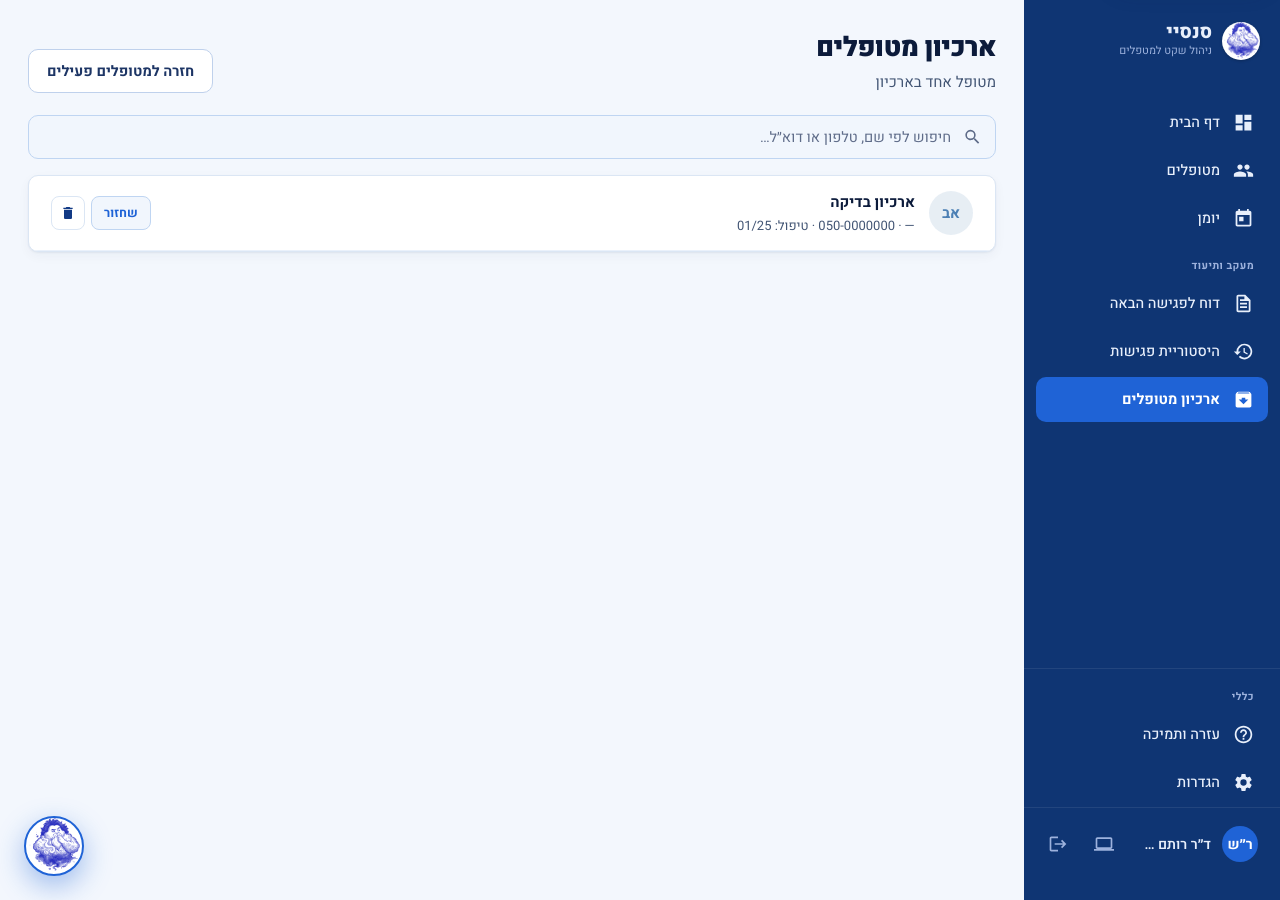
Test case: patient archive page › shows archived patients and restores them to the active list
The image size is (1280, 900).
Click the button with aria-label "שחזור מטופל": (121, 213) [91, 196, 151, 230]
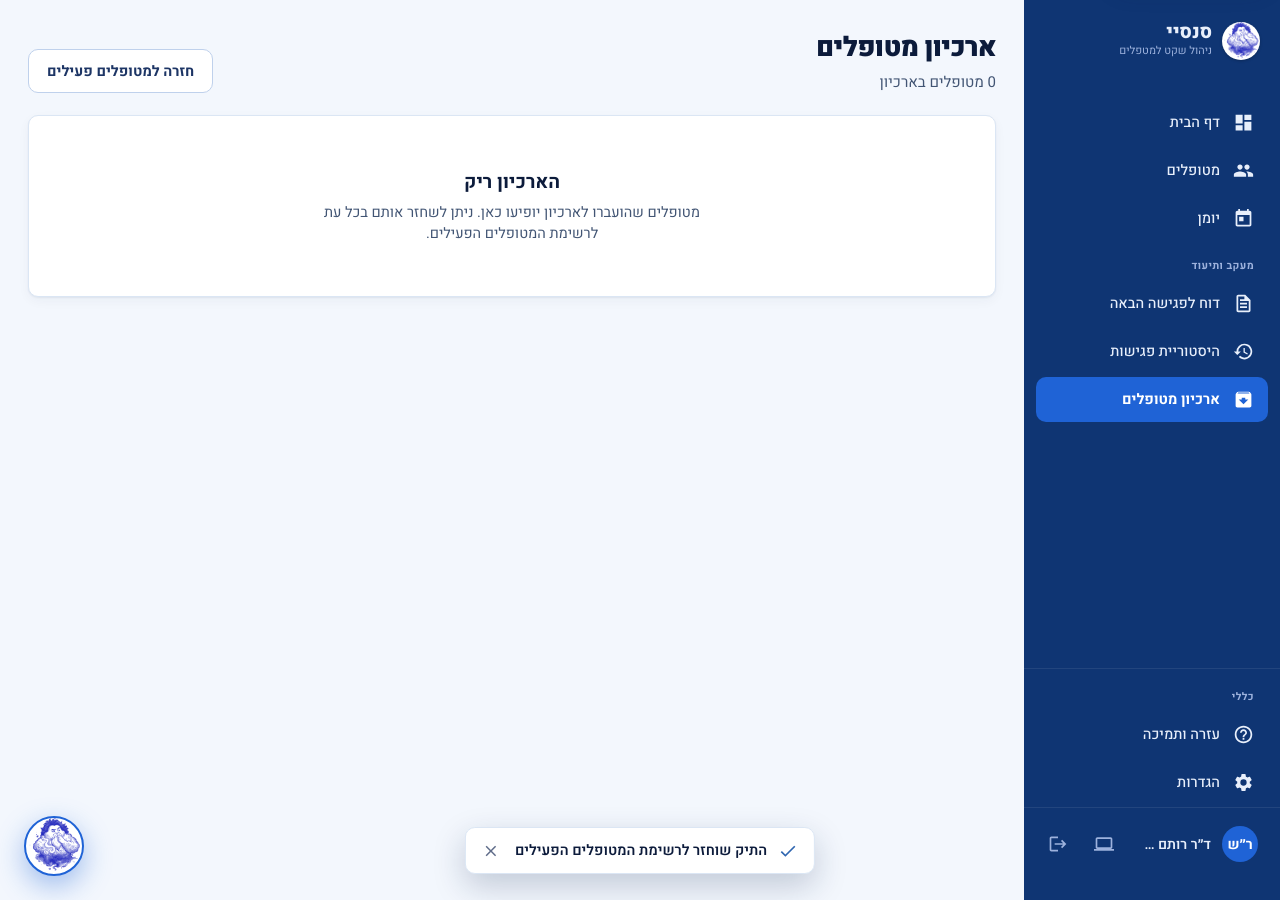
Expected: the text "ארכיון בדיקה" is gone
Click the button "חזרה למטופלים פעילים": (121, 71) [28, 49, 213, 93]
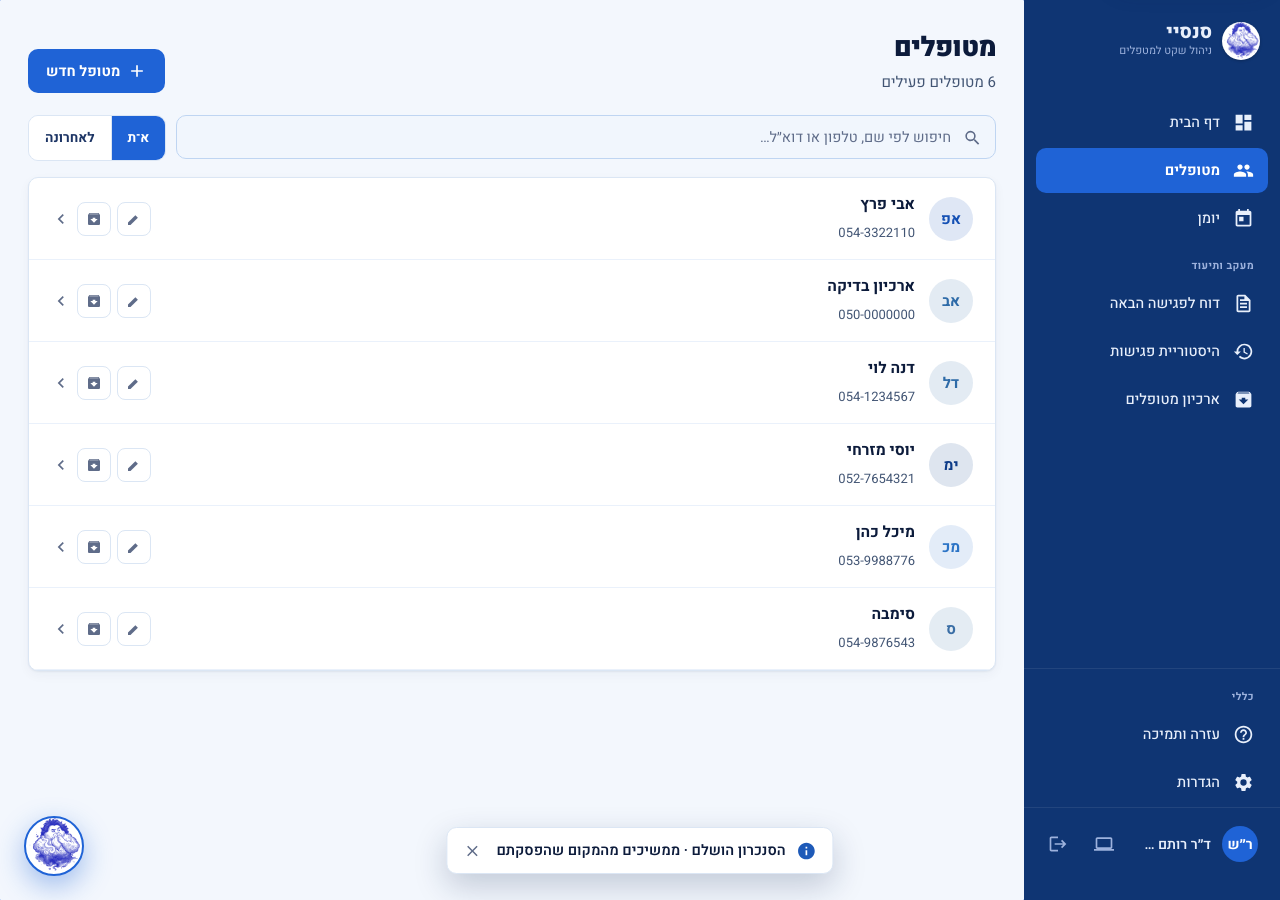
Expected: the heading "מטופלים" is shown, [881, 28, 996, 67]
Expected: the text "ארכיון בדיקה" is shown, [827, 275, 915, 298]
